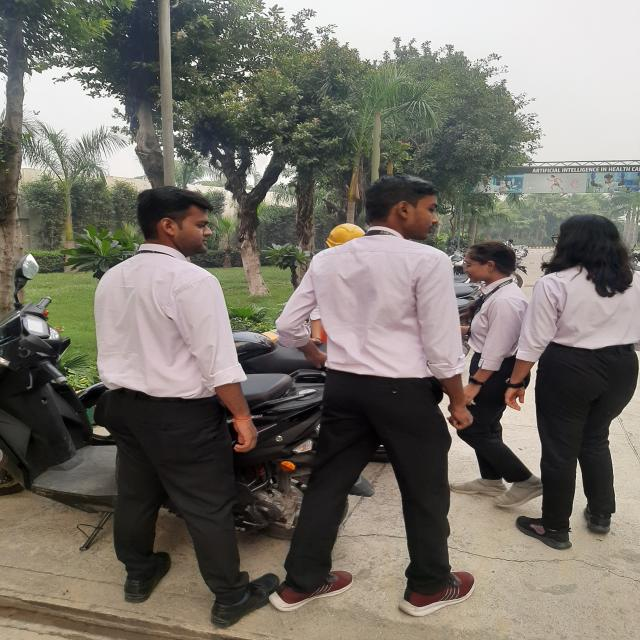unsafe: (267, 173, 472, 620), (95, 181, 280, 630), (497, 206, 639, 552)
